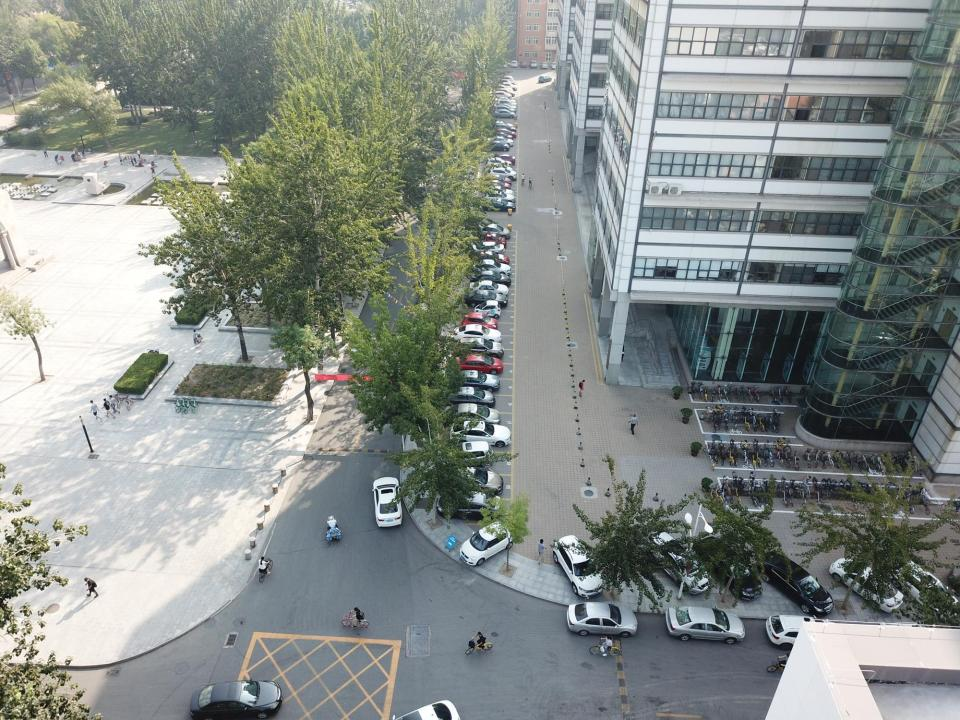car: (753, 550, 835, 617), (827, 552, 905, 615), (693, 535, 762, 602), (644, 530, 712, 594), (893, 560, 960, 616), (665, 603, 745, 645), (552, 535, 605, 598), (459, 520, 515, 565), (764, 612, 834, 648), (566, 601, 637, 636), (436, 488, 503, 521), (432, 465, 504, 494), (449, 421, 511, 446), (372, 476, 402, 527), (392, 699, 460, 720), (445, 402, 502, 425), (438, 441, 493, 462), (450, 370, 500, 393), (451, 353, 505, 374), (444, 386, 496, 407), (452, 338, 504, 358), (452, 324, 502, 343), (463, 289, 507, 308), (468, 281, 510, 297), (468, 250, 510, 266), (461, 312, 498, 330), (470, 258, 511, 274), (469, 270, 511, 285), (477, 223, 511, 239), (482, 189, 516, 204), (484, 165, 518, 180), (473, 300, 501, 318), (480, 198, 516, 212), (470, 241, 504, 255), (483, 232, 508, 248), (485, 156, 513, 170), (481, 140, 510, 152), (481, 179, 512, 190), (490, 153, 516, 165), (483, 186, 514, 196), (488, 127, 516, 138), (481, 174, 511, 184), (487, 123, 517, 133), (486, 164, 513, 175), (536, 538, 546, 565), (487, 136, 514, 146), (493, 84, 515, 96), (493, 105, 515, 116), (488, 120, 514, 129), (486, 132, 513, 140), (494, 103, 516, 112), (495, 97, 516, 106), (490, 91, 511, 100), (497, 82, 518, 91), (494, 110, 516, 118), (493, 78, 515, 86), (415, 181, 426, 197), (538, 74, 553, 83), (496, 75, 514, 82), (530, 61, 537, 68), (520, 61, 526, 68), (541, 62, 548, 68), (501, 61, 507, 68), (550, 62, 556, 68), (511, 61, 517, 66)
